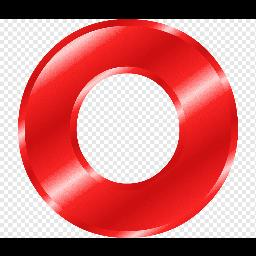o: (14, 18, 244, 238)
